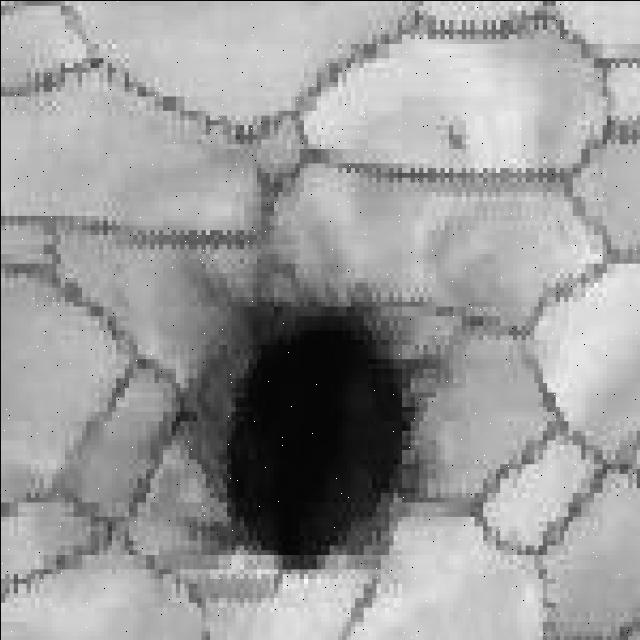good_void: (166, 253, 439, 571), (434, 115, 468, 153)
